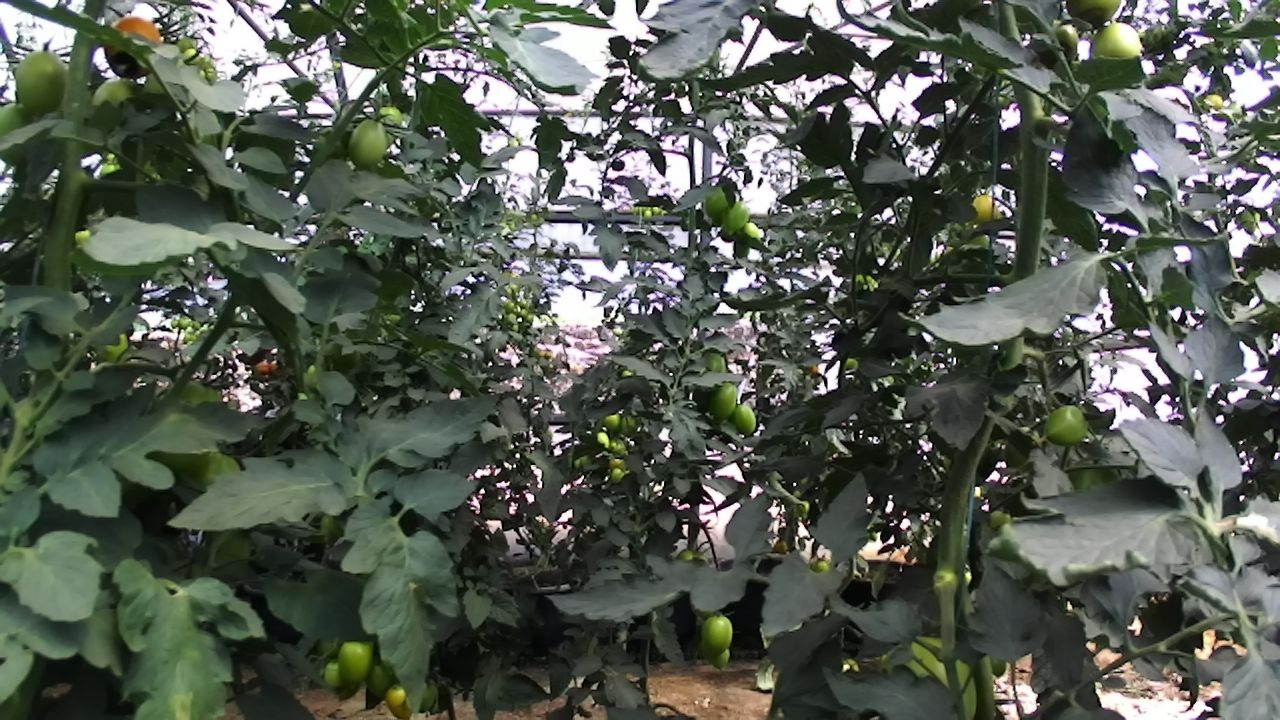tomato: (94, 8, 175, 87), (6, 42, 82, 126), (1083, 12, 1152, 89), (1035, 391, 1104, 461), (340, 109, 399, 175), (1028, 15, 1084, 73), (333, 631, 380, 692), (715, 193, 756, 245), (378, 676, 425, 720), (361, 656, 403, 704), (697, 609, 738, 658), (695, 346, 734, 395), (1231, 198, 1273, 243), (964, 187, 1003, 232), (705, 379, 743, 424), (699, 181, 739, 221), (730, 398, 763, 439), (738, 215, 769, 253), (320, 656, 350, 693), (1201, 85, 1229, 117), (616, 410, 640, 438), (601, 406, 625, 433), (593, 427, 615, 452), (607, 464, 627, 485)
